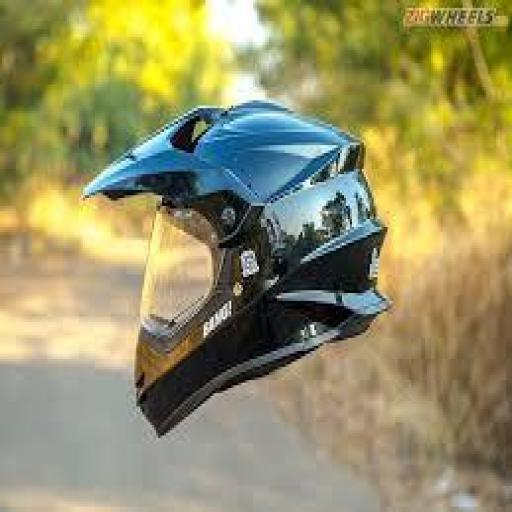with helmet: (88, 72, 493, 424)
